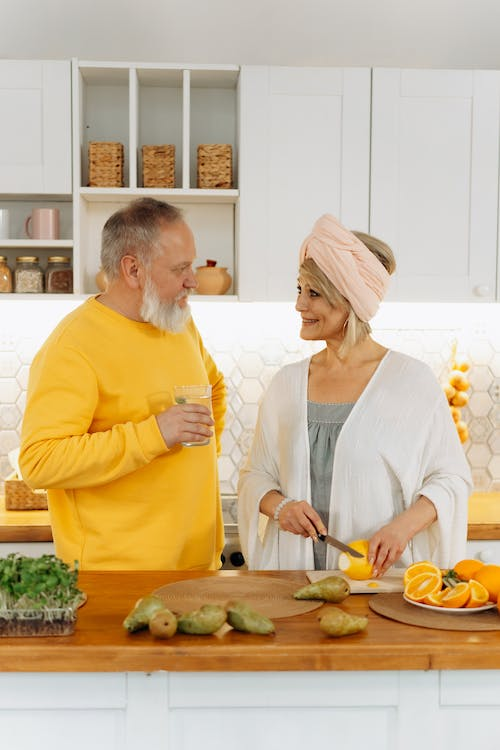knife: (316, 531, 367, 561)
